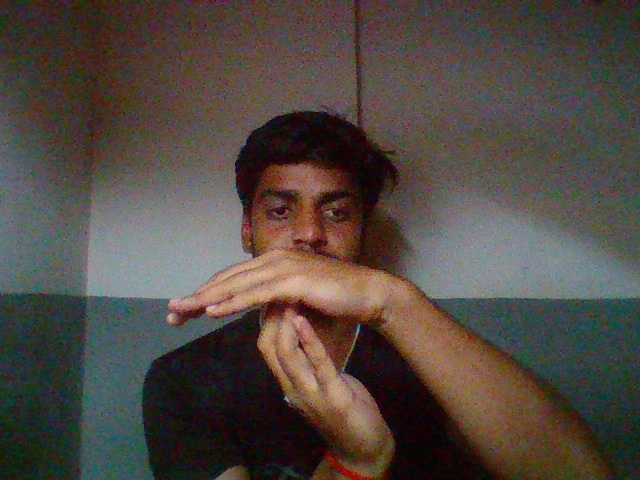J: (147, 237, 475, 476)
